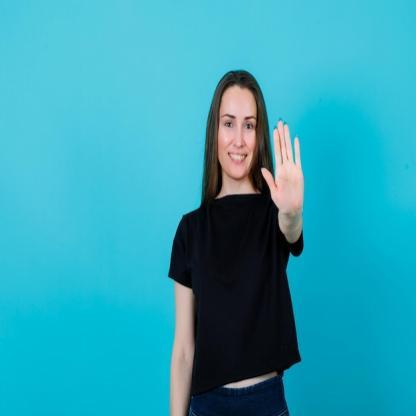stop: (259, 116, 308, 220)
